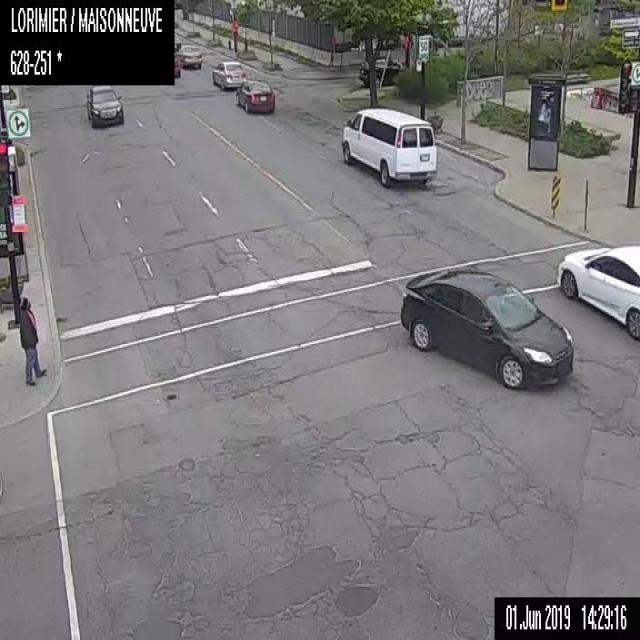pedestrian: (18, 298, 46, 386)
vehicle: (399, 264, 574, 391), (556, 243, 639, 341), (340, 106, 435, 186), (86, 82, 122, 126), (235, 77, 276, 112), (359, 56, 404, 86), (212, 60, 247, 89), (174, 43, 202, 68)
